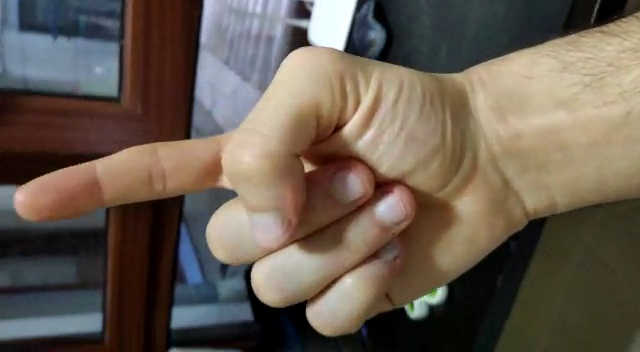One: (9, 129, 241, 225)
